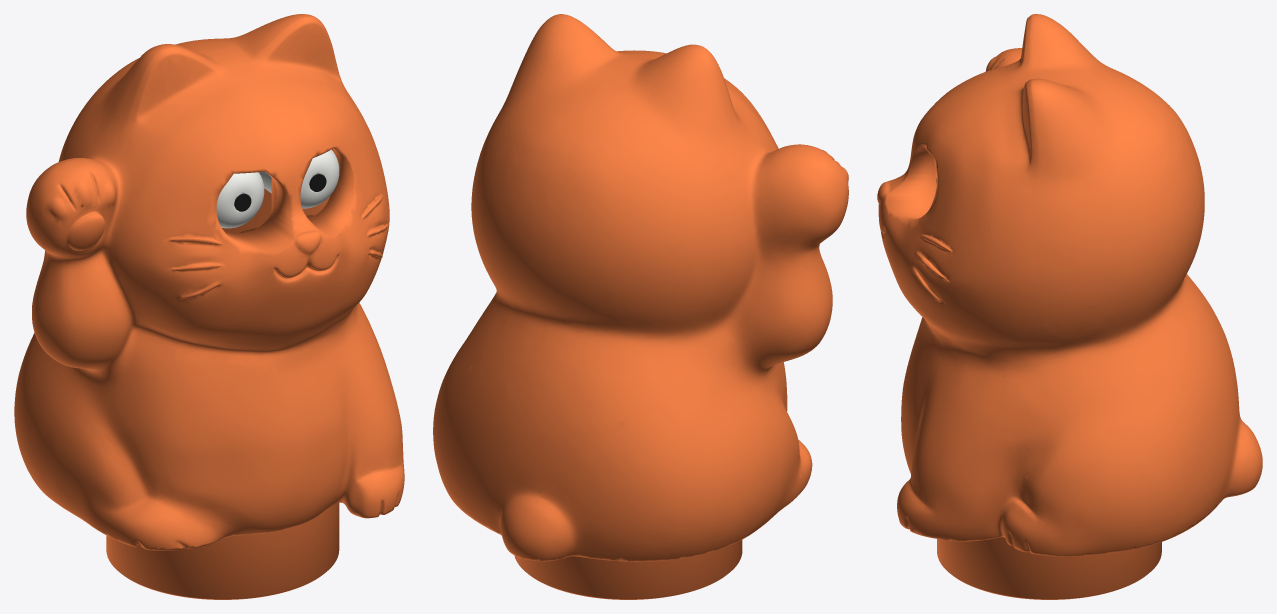
File: pop-eyed-fat-cat.glb
3 renders of one model, left to right at view 1: azimuth 30°, elevation 25°; view 2: azimuth 150°, elevation 25°; view 3: azimuth 270°, elevation 25°, orthographic. The views are drawn at different scales.
Visible parts, largest first — view 1: head, base, eyes; view 2: head, base; view 3: head, base.
Boxes of the visible parts, x1,y1,x2,y2 form: head: (14,14,404,550); base: (106,503,339,599); eyes: (216,149,339,228); head: (433,14,848,561); base: (514,540,742,599); head: (877,14,1262,556); base: (937,537,1161,599).
Bounding box in the file's own units: 68.61 × 93.6 × 64.47.
